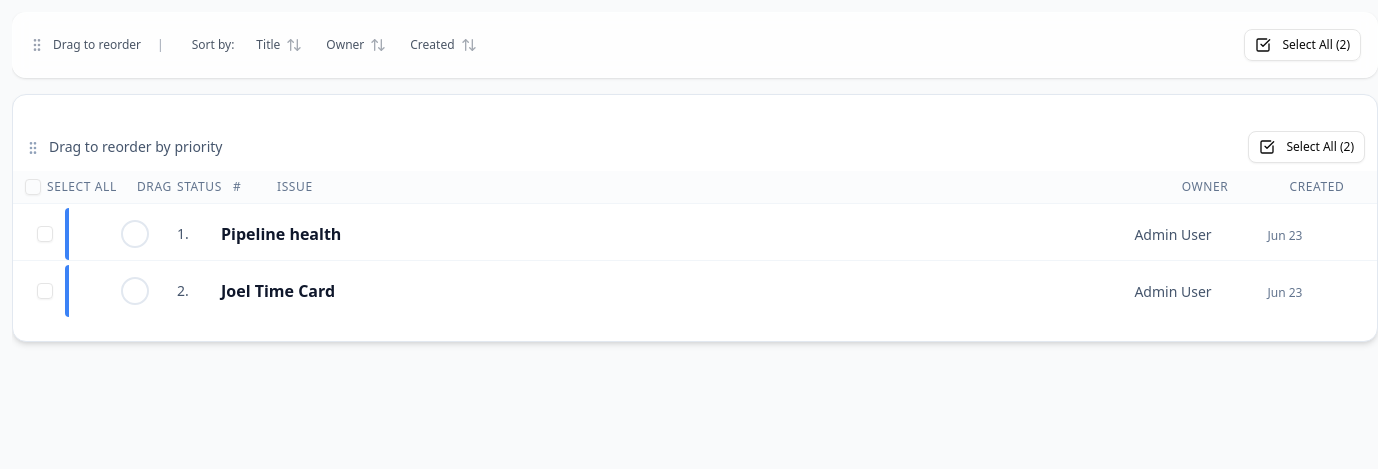
it: IssuesListClean bulk selection smoke test › shows Move to Long-Term for all selected issues via select-all button
Click the button "Select All (2)" in the row of "Sort by:" at (1302, 45), box [1244,29,1361,61]
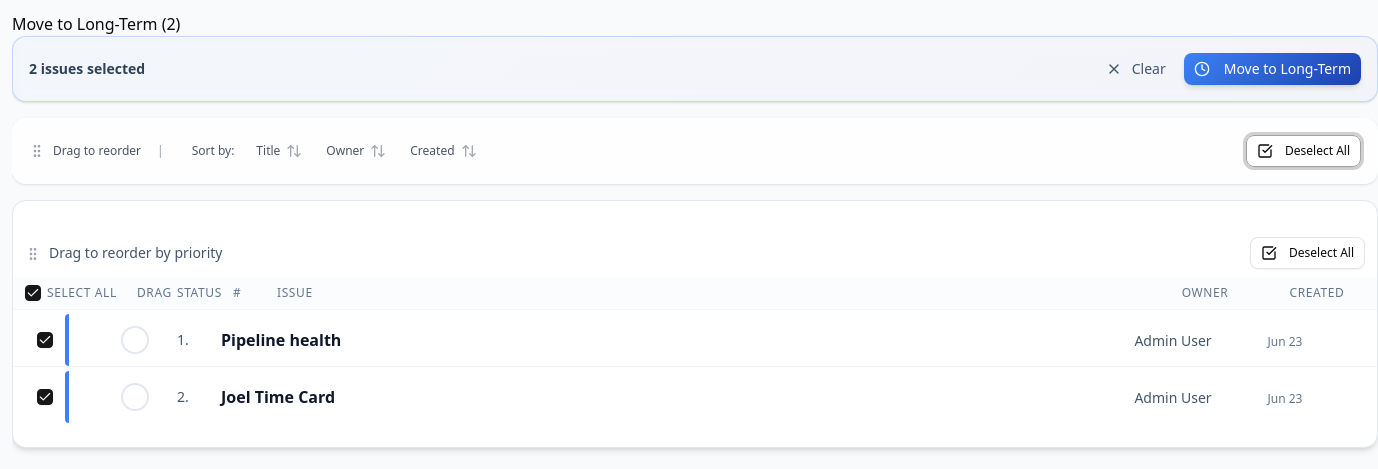
expect the text "2 issues selected" is shown: met, box [29,59,145,79]
expect the button "Move to Long-Term" is shown: met, box [1184,53,1361,85]
expect the text with test id "page-toolbar" reads "Move to Long-Term (2)": met, box [12,13,180,35]
